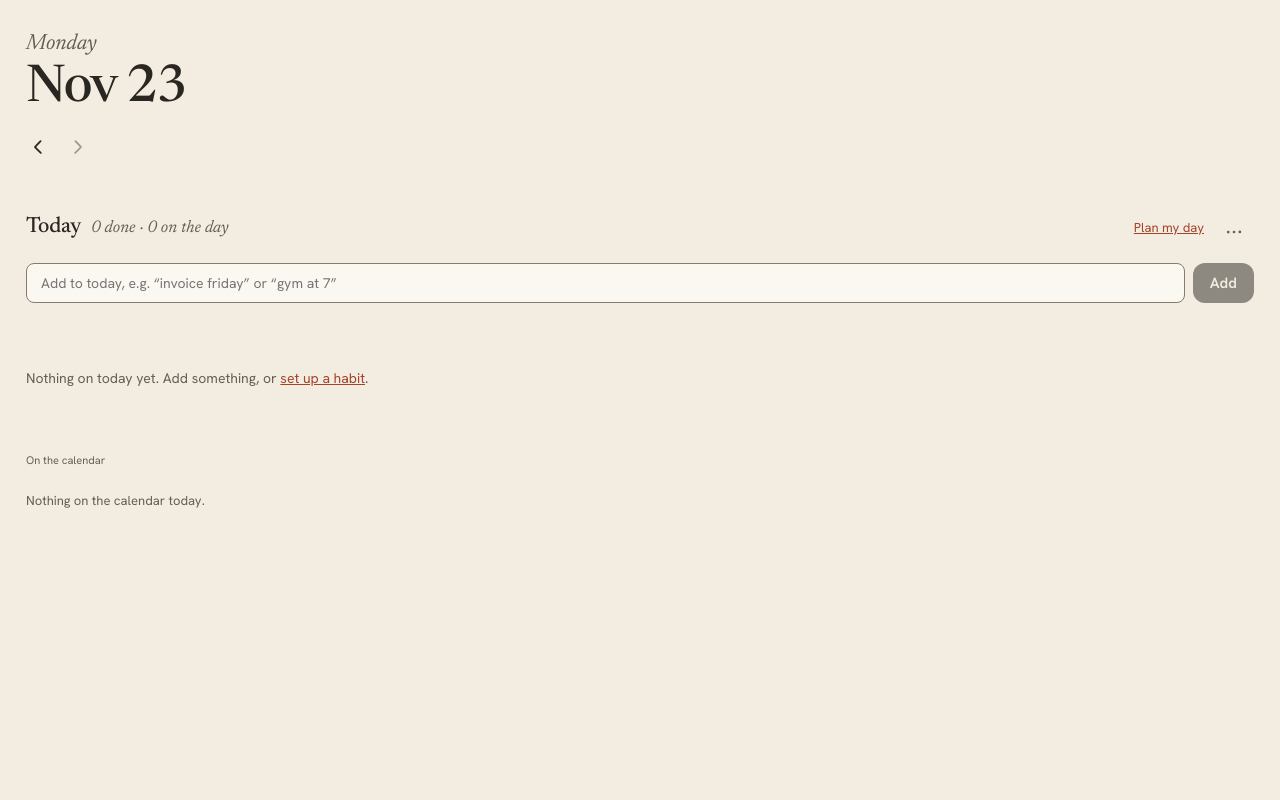
Scenario: 2026-09-03 — the shutdown ritual after the owner came back › still says nothing at all when there was nothing at all
Click the button named "More actions" at (1234,228), box [1214,208,1254,248]
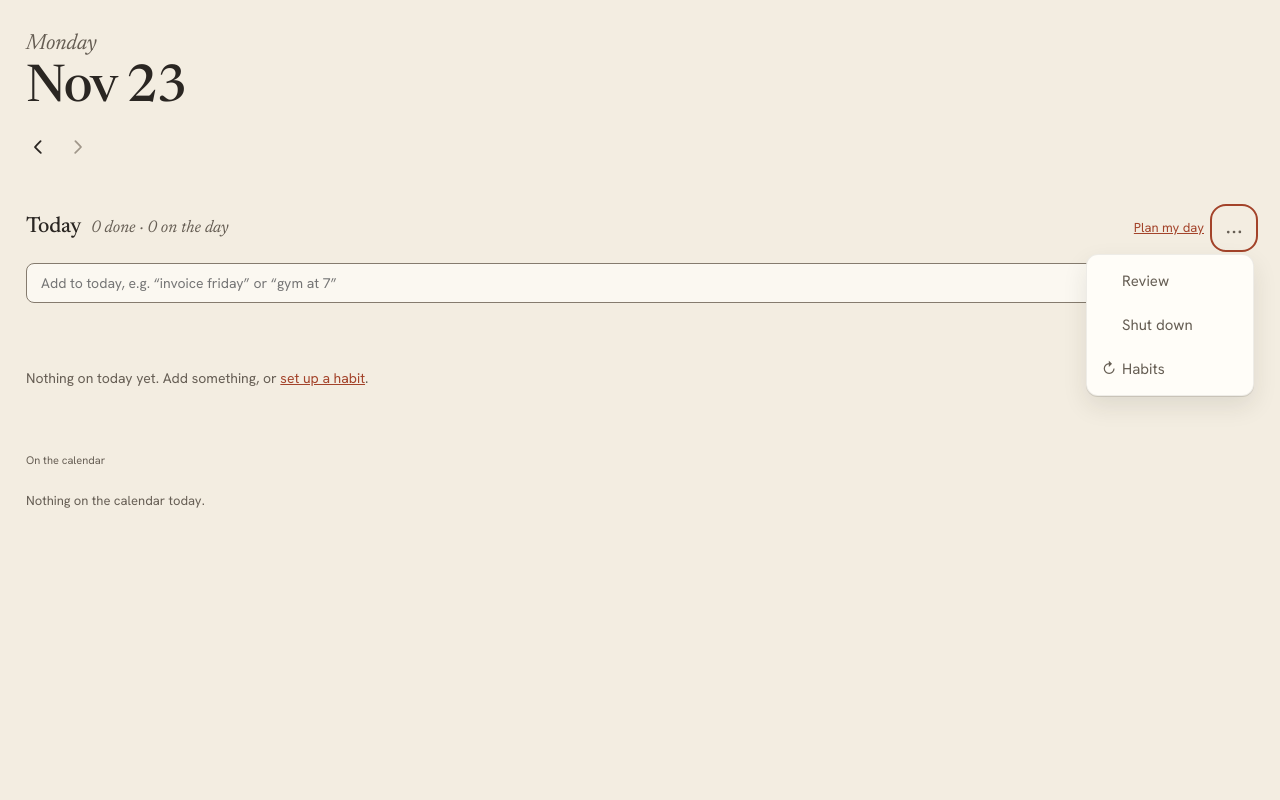
Click the button "Shut down" at (1170,325), box [1091,303,1249,347]
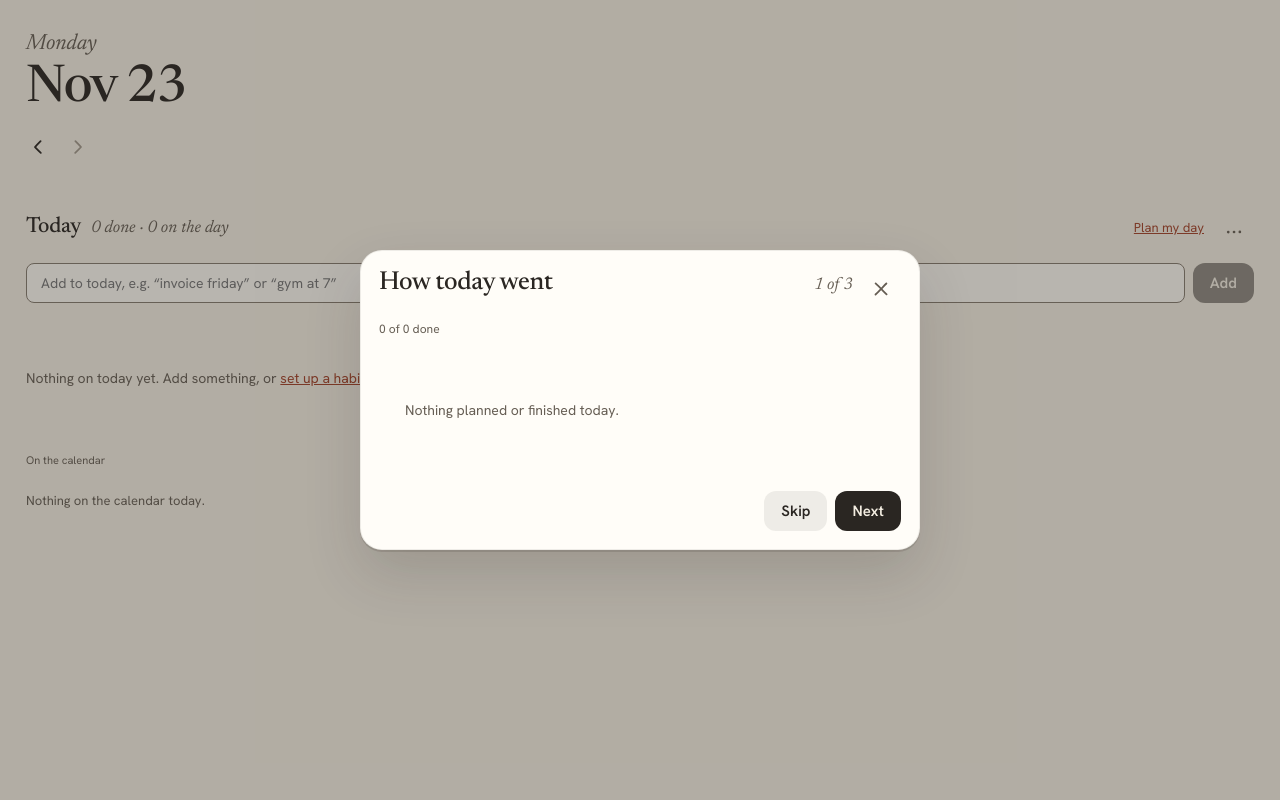
Check: the element showing "0 of 0 done Nothing planned or finished today." is shown, box [379,321,619,419]
